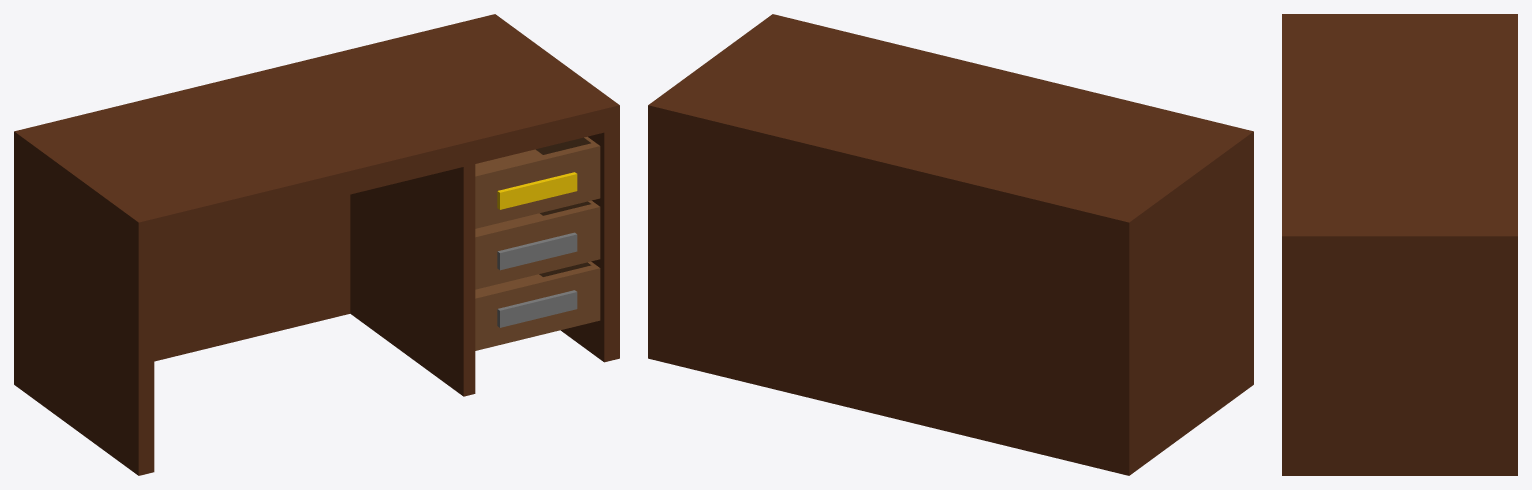
The model's file is DESKWITHDRAWERS.fbx.
3 views of the same model, side by side, from view 1: azimuth 30°, elevation 25°; view 2: azimuth 150°, elevation 25°; view 3: azimuth 270°, elevation 25° (orthographic). The views are drawn at different scales.
Visible parts, largest first — view 1: Cube, Cube.003, Cube.001, Cube.002, Cube.004, Cube.005, Cube.006; view 2: Cube; view 3: Cube.
Boxes of the visible parts, box(x1,y1,x2,y2) form: Cube: box(14, 14, 619, 475); Cube.003: box(475, 136, 600, 228); Cube.001: box(475, 261, 600, 350); Cube.002: box(475, 200, 600, 289); Cube.004: box(497, 172, 577, 209); Cube.005: box(497, 232, 577, 270); Cube.006: box(497, 290, 577, 327); Cube: box(648, 14, 1253, 475); Cube: box(1282, 14, 1517, 475).
Bounding box in the file's own units: 820 × 412 × 368.
